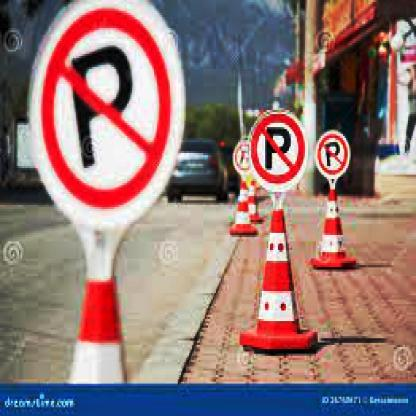No parking: (23, 2, 176, 214), (246, 115, 307, 186), (317, 131, 354, 176)
